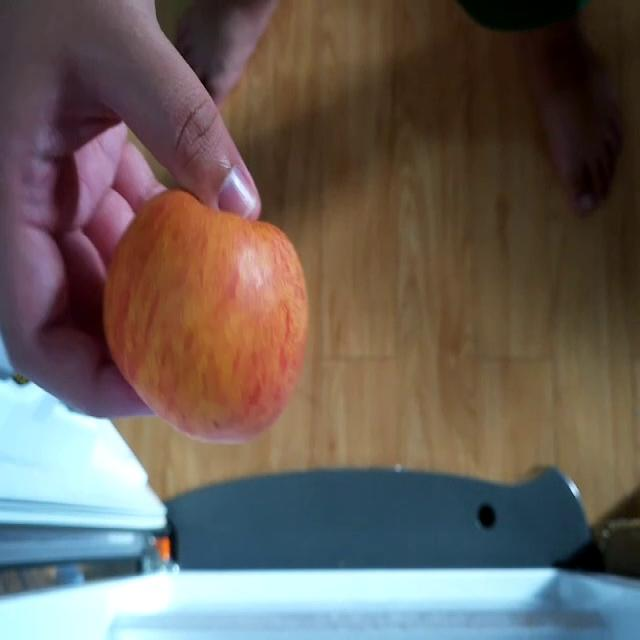apple: (101, 185, 311, 442)
